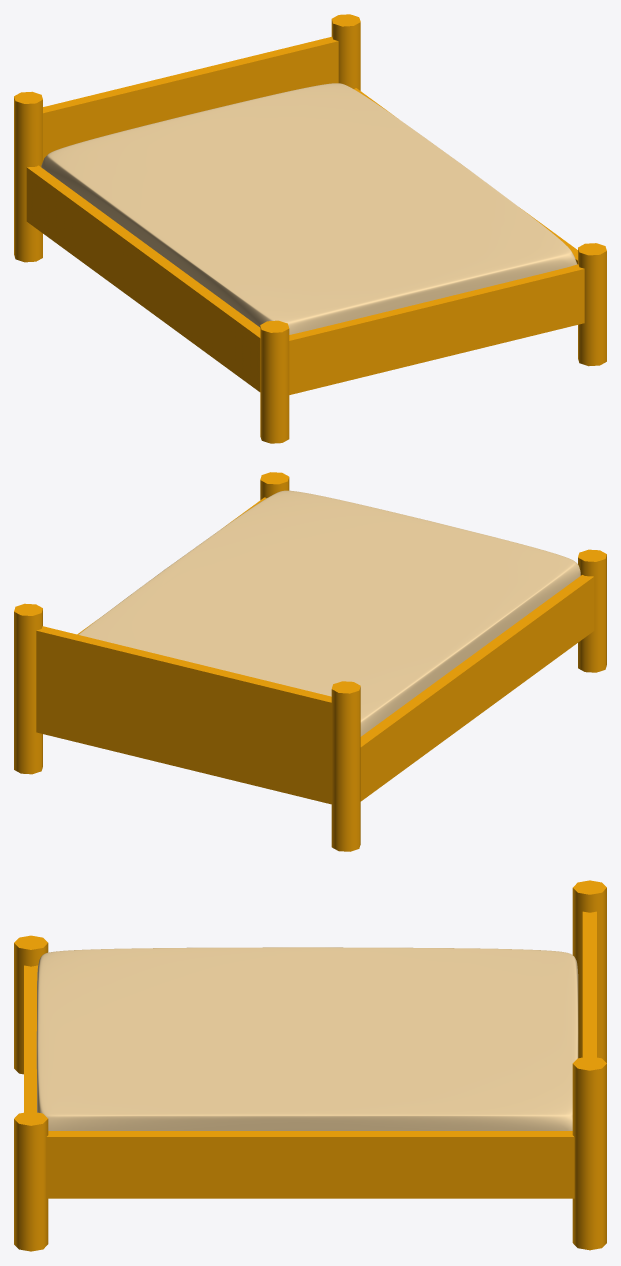
3 views of the same model, one above another, from view 1: azimuth 30°, elevation 25°; view 2: azimuth 150°, elevation 25°; view 3: azimuth 270°, elevation 25° (orthographic). The views are drawn at different scales.
Visible parts, largest first — view 1: Matelas_9, Bord_1_4, Bord_3_8, Bord_3, Pied_1_2, Pied_2_5, Pied_3_6, Pied_1; view 2: Matelas_9, Bord_3, Bord_3_8, Pied_1_2, Pied_1, Pied_2_5, Pied_3_6; view 3: Matelas_9, Bord_2_7, Pied_1, Pied_3_6, Pied_1_2, Bord_3, Pied_2_5, Bord_1_4.
Boxes of the visible parts, bbox=[...] form: Matelas_9: bbox=[41, 83, 577, 334]; Bord_1_4: bbox=[289, 264, 584, 394]; Bord_3_8: bbox=[26, 165, 260, 391]; Bord_3: bbox=[43, 36, 338, 160]; Pied_1_2: bbox=[14, 91, 42, 262]; Pied_2_5: bbox=[260, 320, 289, 443]; Pied_3_6: bbox=[578, 243, 606, 366]; Pied_1: bbox=[331, 14, 360, 90]; Matelas_9: bbox=[78, 490, 580, 736]; Bord_3: bbox=[36, 626, 331, 804]; Bord_3_8: bbox=[360, 575, 594, 801]; Pied_1_2: bbox=[331, 681, 360, 851]; Pied_1: bbox=[14, 603, 42, 774]; Pied_2_5: bbox=[578, 549, 606, 672]; Pied_3_6: bbox=[260, 472, 289, 499]; Matelas_9: bbox=[36, 947, 578, 1130]; Bord_2_7: bbox=[46, 1131, 574, 1198]; Pied_1: bbox=[572, 1056, 606, 1250]; Pied_3_6: bbox=[14, 1111, 48, 1251]; Pied_1_2: bbox=[572, 880, 606, 1062]; Bord_3: bbox=[582, 911, 596, 1057]; Pied_2_5: bbox=[14, 935, 48, 1074]; Bord_1_4: bbox=[24, 965, 38, 1112].
Size of the model in its own units: 158 by 70 by 208.
